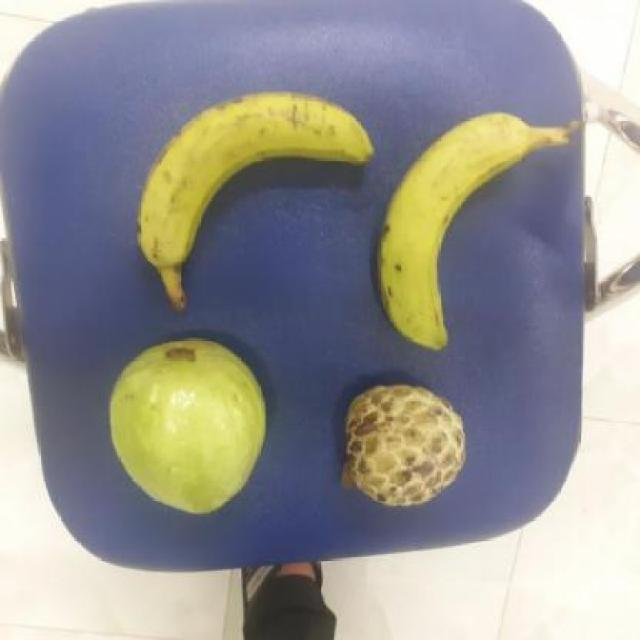banana: (127, 91, 370, 274), (370, 111, 538, 347)
guava: (103, 339, 266, 513)
sugar apple: (331, 385, 467, 510)
